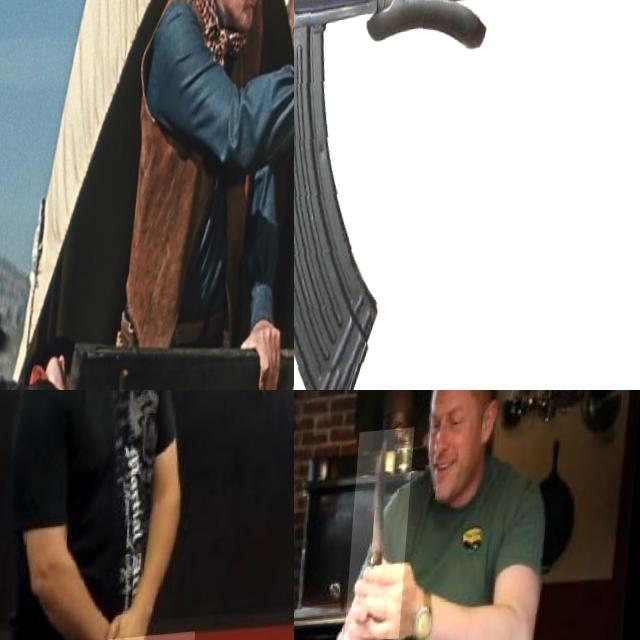-: (350, 435, 417, 640)
gun-knife-thesis - v11 Yolov5 augmented: (294, 0, 640, 390)
